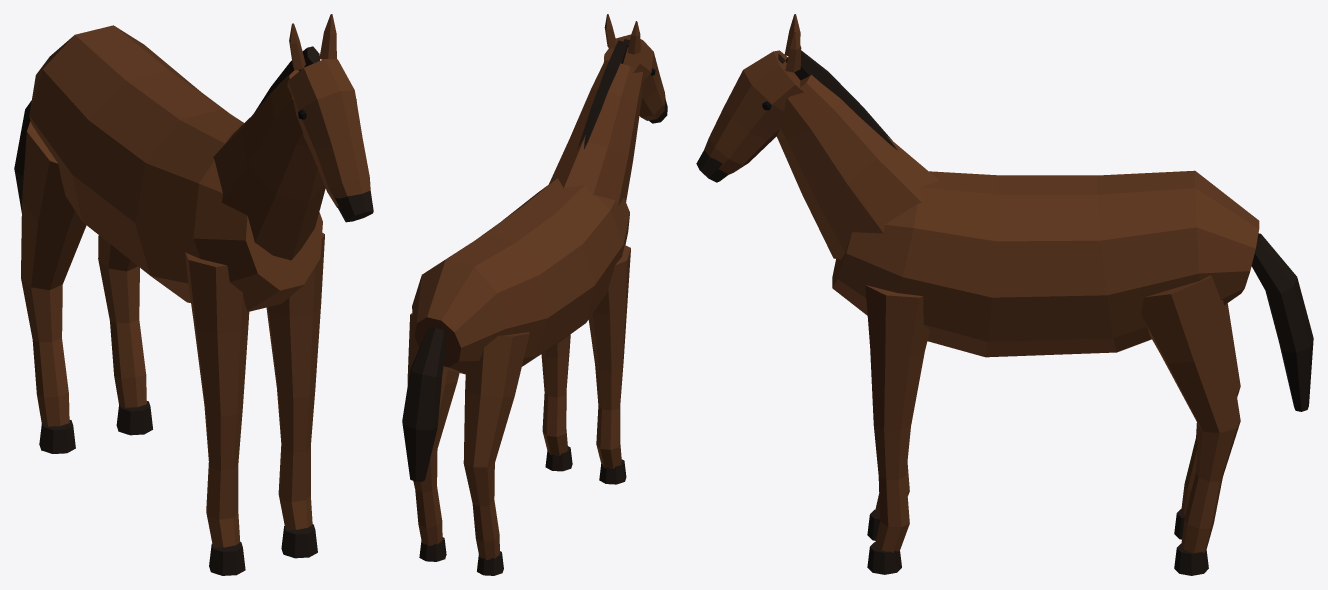
File: SM_Horse_Brown.obj
3 views of the same model, side by side, from view 1: azimuth 30°, elevation 25°; view 2: azimuth 150°, elevation 25°; view 3: azimuth 270°, elevation 25° (orthographic). The views are drawn at different scales.
Visible parts, largest first — view 1: SM_Horse_Brown; view 2: SM_Horse_Brown; view 3: SM_Horse_Brown.
Part boxes in pixels (x1,y1,x2,y2): SM_Horse_Brown: [14, 14, 373, 575]; SM_Horse_Brown: [402, 14, 667, 575]; SM_Horse_Brown: [696, 14, 1313, 575].
Bounding box in the file's own units: 0.59 × 2.28 × 2.41.
